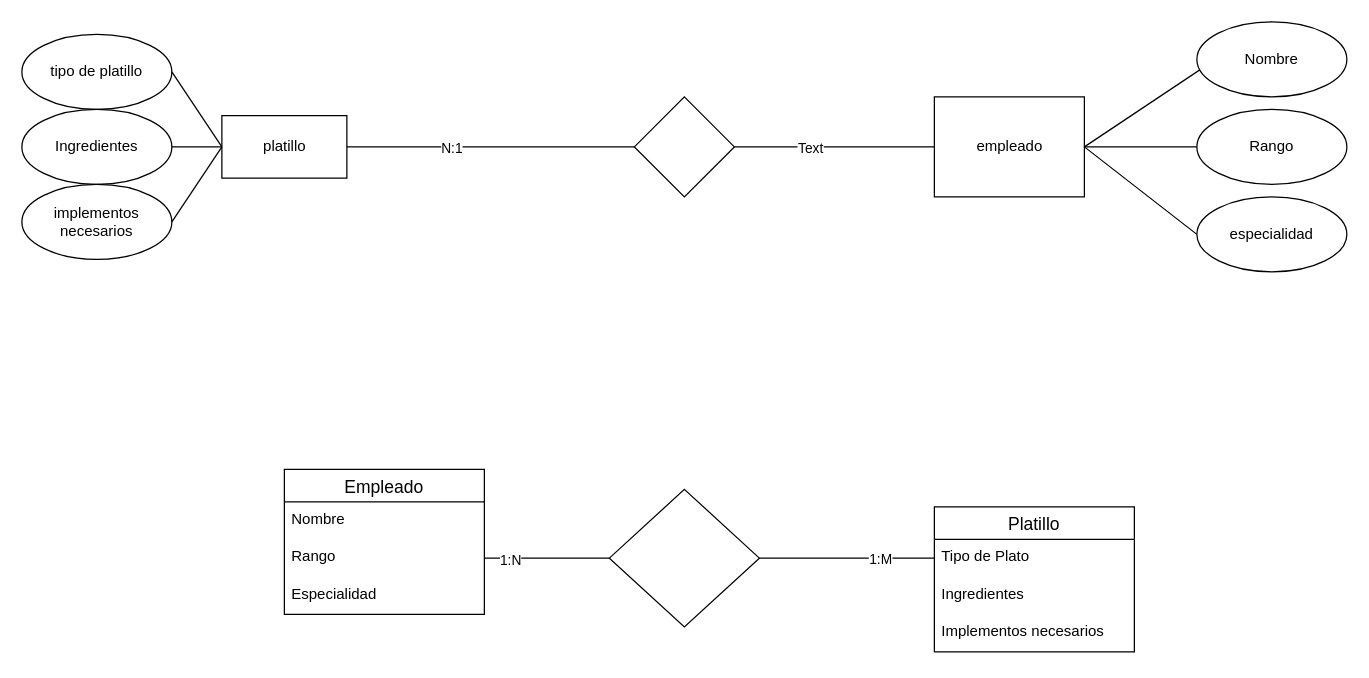
Some shapes in this 1369 by 678 pixel diagram are drawn without their labels. Here are the shapes that lost their labels. From the top down, the centre of each, then its label:
At (x=683, y=146): "preparar".
At (x=683, y=557): "Hacer".
